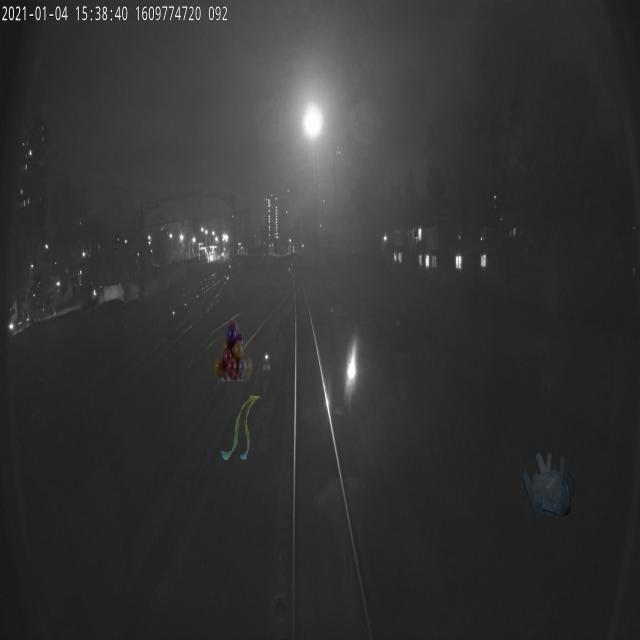balloon: (214, 318, 252, 382)
floating object: (220, 396, 262, 460)
